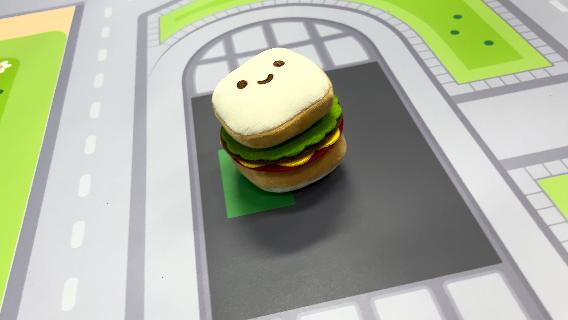sandwich: (210, 46, 350, 194)
